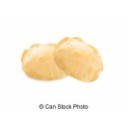poori: (55, 37, 104, 82), (23, 44, 69, 80)
